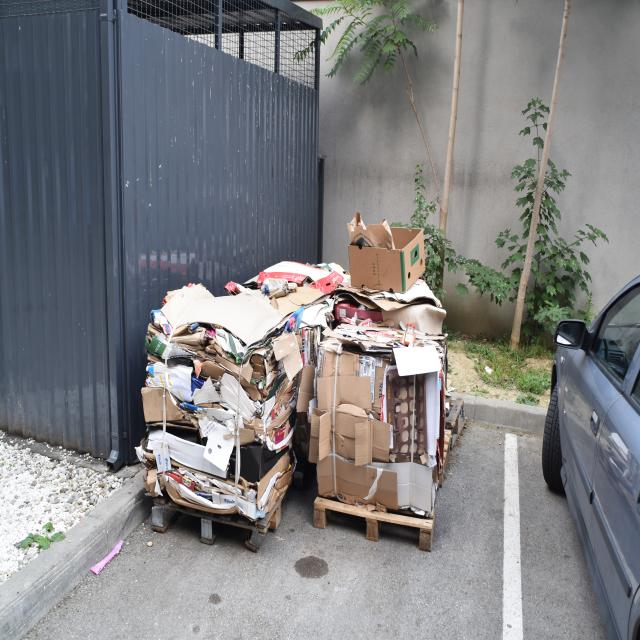lixo domiciliar: (318, 334, 446, 495), (139, 430, 235, 504), (171, 292, 284, 351), (335, 286, 448, 336), (346, 222, 426, 292), (332, 406, 389, 468), (148, 322, 220, 366), (322, 354, 374, 411), (216, 353, 274, 402), (258, 372, 300, 437), (169, 475, 237, 512), (141, 384, 199, 427), (160, 284, 214, 326), (255, 454, 292, 510), (257, 261, 332, 287), (347, 212, 397, 250), (145, 364, 196, 400), (392, 342, 442, 378), (203, 422, 236, 475), (295, 359, 317, 423), (244, 346, 278, 386), (278, 286, 330, 312), (292, 301, 334, 331), (196, 404, 239, 428), (192, 377, 224, 408), (309, 406, 326, 464), (388, 226, 423, 253), (196, 360, 232, 384), (232, 493, 261, 519), (282, 349, 303, 384), (319, 408, 332, 462), (317, 375, 335, 412), (231, 426, 257, 447), (224, 281, 241, 296)
